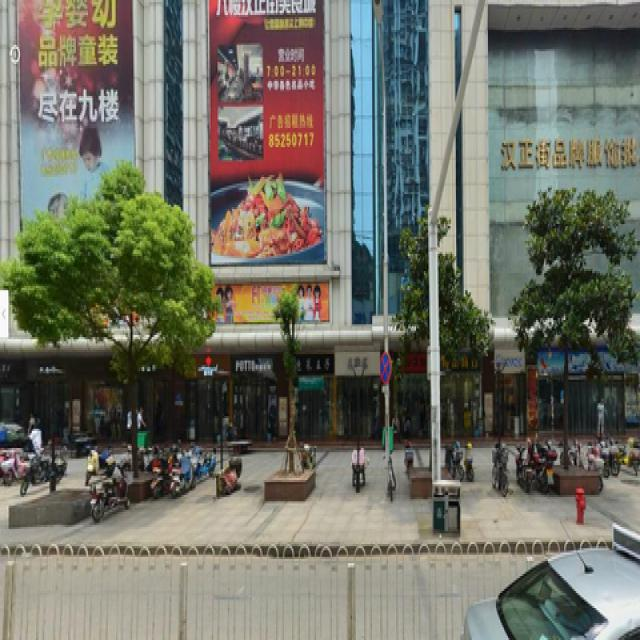cinn: (9, 168, 206, 493)
